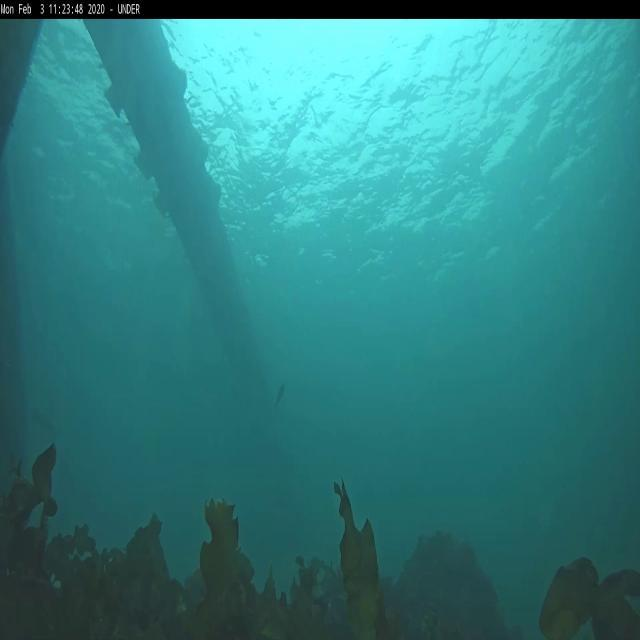fish: (273, 384, 285, 419)
